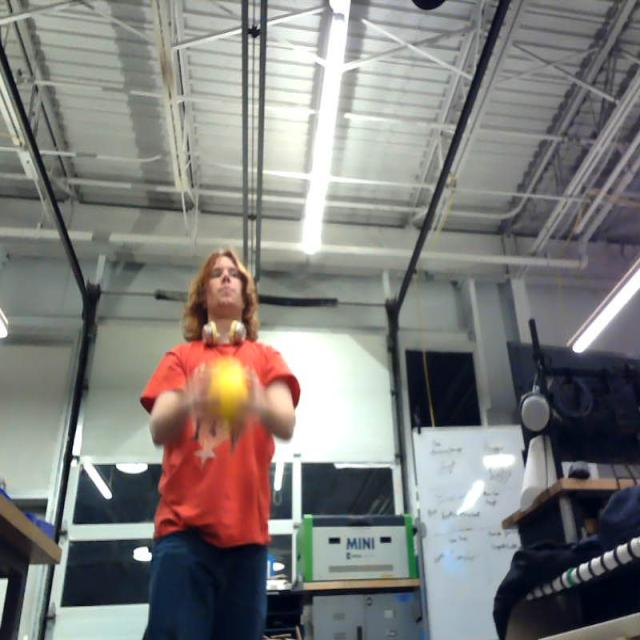Fuel: (206, 367, 249, 421)
